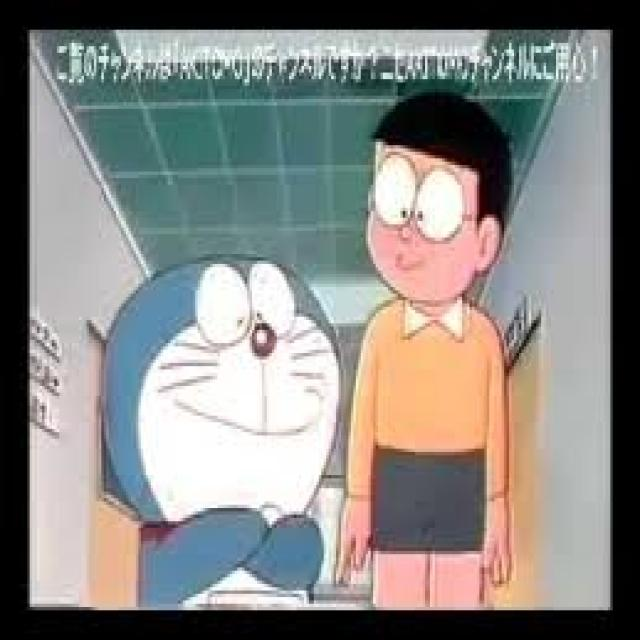doraemon: (94, 248, 346, 568)
nobita: (353, 86, 514, 333)
